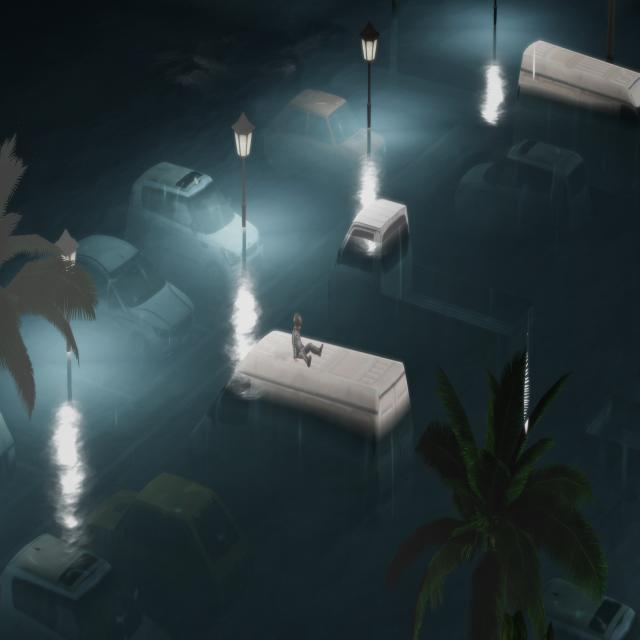Human: (288, 310, 328, 372)
